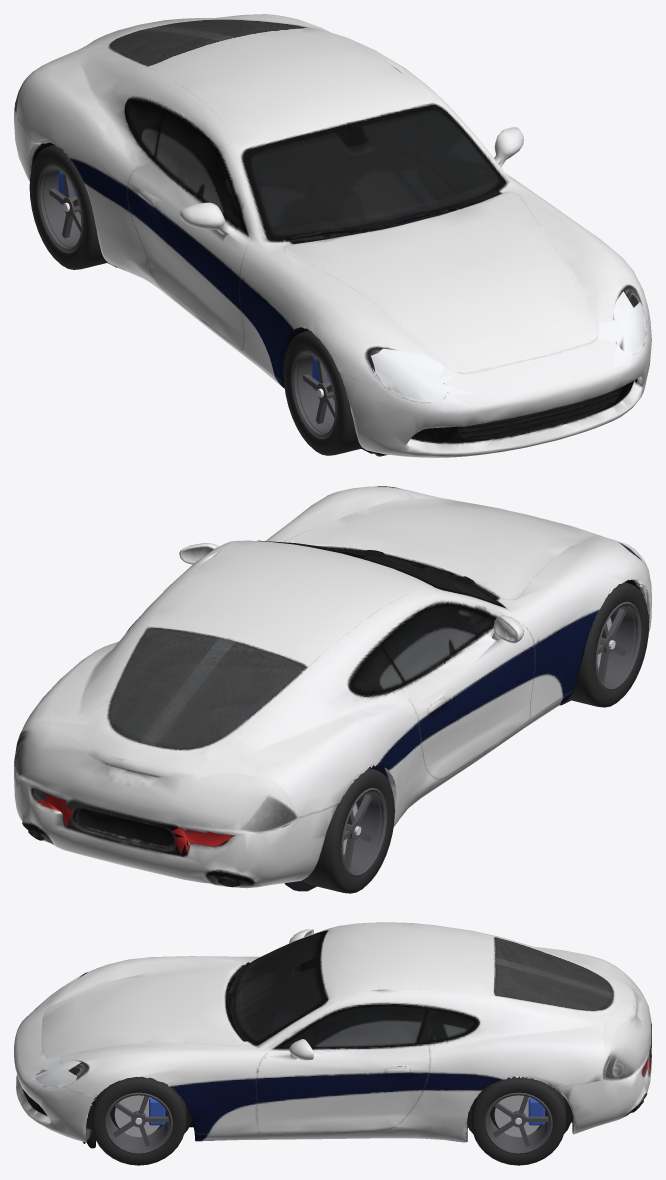
The model's file is cop_coupe.glb.
3 renders of one model, top to bottom at view 1: azimuth 30°, elevation 25°; view 2: azimuth 150°, elevation 25°; view 3: azimuth 270°, elevation 25°, orthographic. The views are drawn at different scales.
Parts seen in each view (by area): view 1: CopCoupeBody, WheelFLTyre, WheelRLTyre, WheelFLRims, WheelRLRims; view 2: CopCoupeBody, WheelRLTyre, WheelFLTyre, WheelRLRims, WheelFLRims; view 3: CopCoupeBody, WheelRRTyre, WheelFRTyre, WheelRRRims, WheelFRRims.
Boxes of the visible parts, <box> form: CopCoupeBody: <box>14,14,651,457</box>; WheelFLTyre: <box>283,330,362,455</box>; WheelRLTyre: <box>29,144,107,269</box>; WheelFLRims: <box>291,350,336,439</box>; WheelRLRims: <box>37,164,82,253</box>; CopCoupeBody: <box>14,486,651,891</box>; WheelRLTyre: <box>303,768,394,893</box>; WheelFLTyre: <box>568,582,648,707</box>; WheelRLRims: <box>341,787,386,876</box>; WheelFLRims: <box>595,601,641,690</box>; CopCoupeBody: <box>14,922,651,1148</box>; WheelRRTyre: <box>470,1076,566,1165</box>; WheelFRTyre: <box>91,1076,186,1165</box>; WheelRRRims: <box>484,1092,552,1154</box>; WheelFRRims: <box>104,1092,172,1154</box>.
Bounding box in the file's own units: 2.12 × 1.32 × 4.6.
10 materials, 2 textured.
